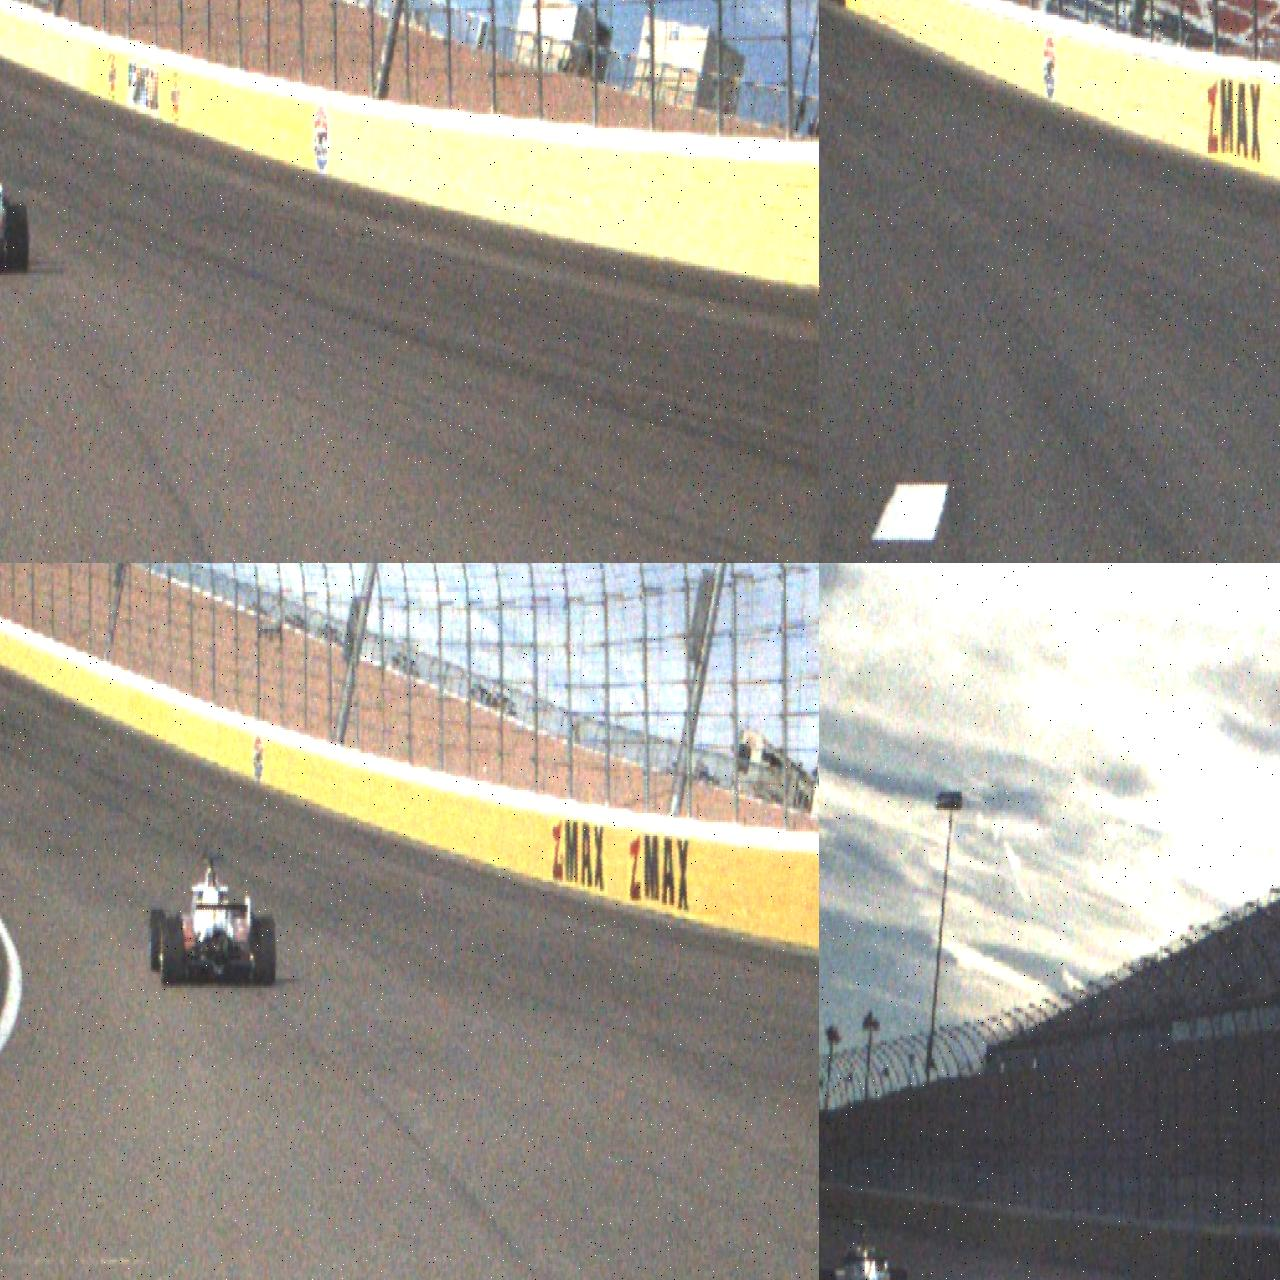AV: (149, 852, 275, 987), (819, 1218, 908, 1280), (0, 144, 28, 270)
Wheel: (161, 914, 184, 987), (253, 917, 275, 987), (9, 204, 28, 270), (150, 908, 165, 972), (891, 1268, 908, 1280)
